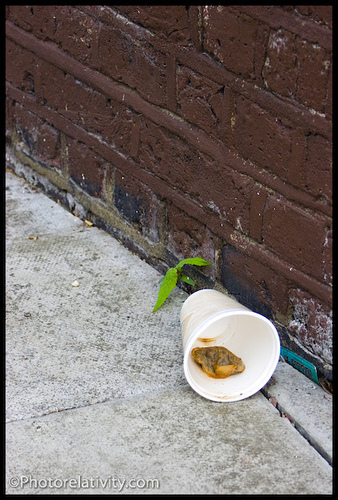litter: (177, 289, 278, 401)
